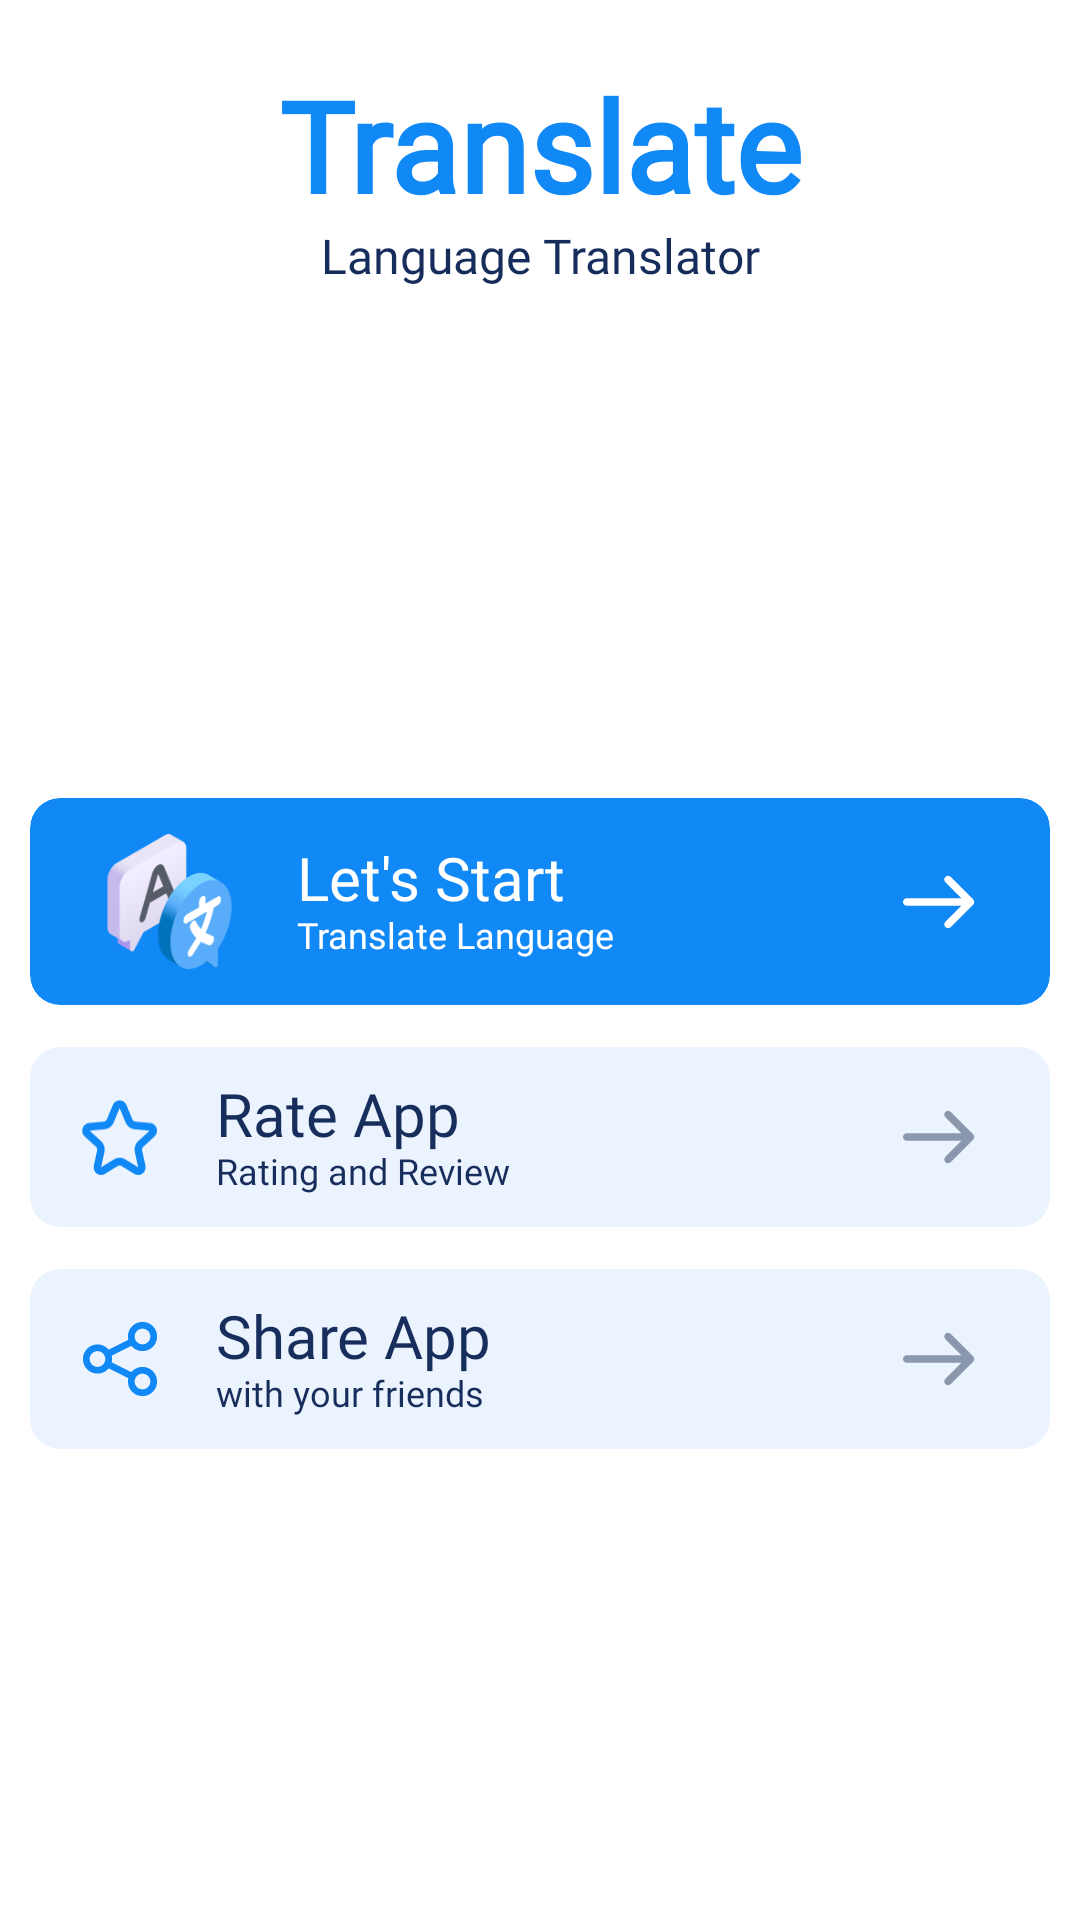

Point at icon controls on the screen. Image size 1080 × 1920, points as point (x, y).
star: point (119, 1137)
start translate: point (169, 901)
